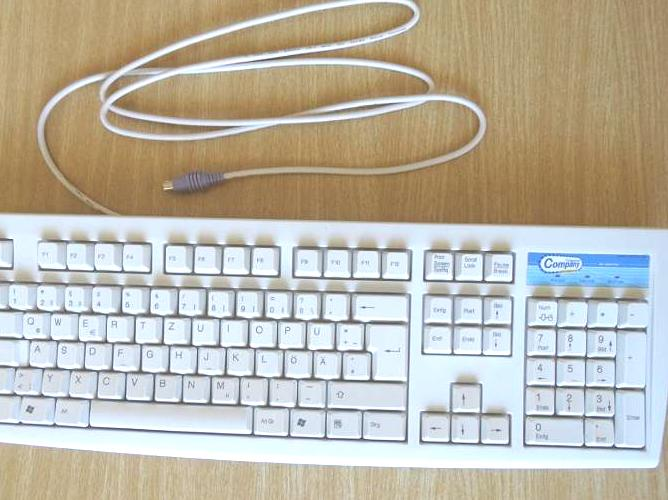0: (264, 289, 289, 317)
1: (7, 283, 34, 308)
2: (35, 284, 60, 309)
3: (64, 284, 89, 310)
4: (91, 284, 117, 311)
5: (121, 285, 143, 312)
6: (149, 286, 175, 313)
7: (178, 286, 204, 314)
8: (207, 288, 232, 315)
9: (235, 289, 260, 315)
a: (28, 339, 54, 366)
accent: (322, 292, 347, 318)
ae: (313, 349, 339, 377)
alt-left: (53, 397, 88, 426)
altgr-right: (253, 405, 288, 434)
b: (153, 372, 180, 400)
c: (96, 370, 124, 398)
caret: (1, 282, 12, 307)
comma: (239, 375, 266, 404)
d: (83, 341, 110, 368)
del: (352, 292, 407, 319)
e: (77, 312, 104, 340)
enter: (366, 321, 407, 380)
f: (112, 342, 138, 369)
g: (140, 343, 166, 370)
h: (168, 344, 196, 372)
hash: (342, 350, 369, 378)
i: (220, 318, 245, 344)
j: (196, 345, 224, 373)
k: (225, 346, 252, 374)
keyboard: (1, 209, 668, 471)
l: (255, 348, 280, 375)
less: (12, 366, 40, 393)
m: (210, 375, 238, 403)
minus: (297, 378, 325, 406)
n: (181, 373, 209, 402)
o: (248, 318, 274, 346)
oe: (283, 349, 310, 376)
p: (277, 319, 303, 347)
plus: (335, 321, 362, 349)
point: (269, 376, 296, 404)
q: (20, 311, 48, 337)
r: (105, 314, 132, 341)
s: (56, 340, 81, 367)
shift-left: (1, 365, 18, 392)
shift-lock: (1, 338, 26, 365)
shift-right: (327, 379, 405, 408)
space: (89, 400, 251, 435)
ss: (294, 291, 318, 317)
strg-left: (1, 393, 23, 422)
strg-right: (360, 409, 406, 439)
t: (135, 314, 159, 341)
tab: (1, 310, 20, 336)
u: (191, 316, 216, 344)
ue: (306, 320, 333, 349)
v: (125, 370, 152, 399)
w: (49, 311, 76, 338)
x: (68, 368, 96, 397)
y: (40, 368, 68, 395)
z: (162, 315, 189, 343)
